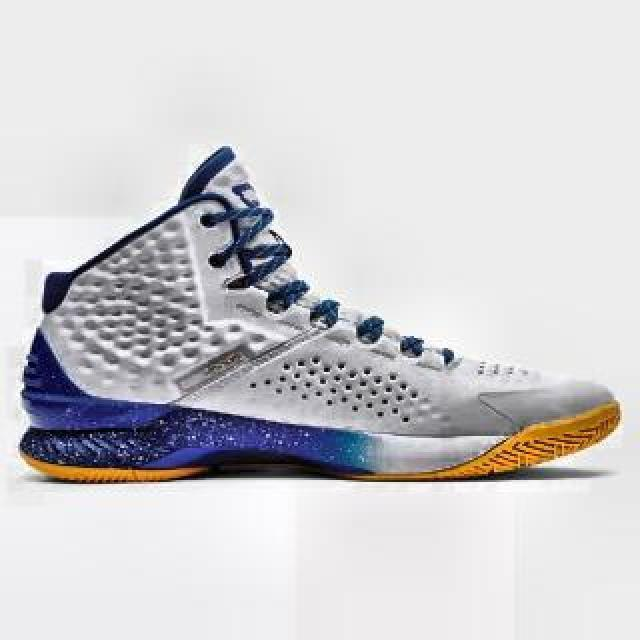shoes: (19, 142, 619, 484)
